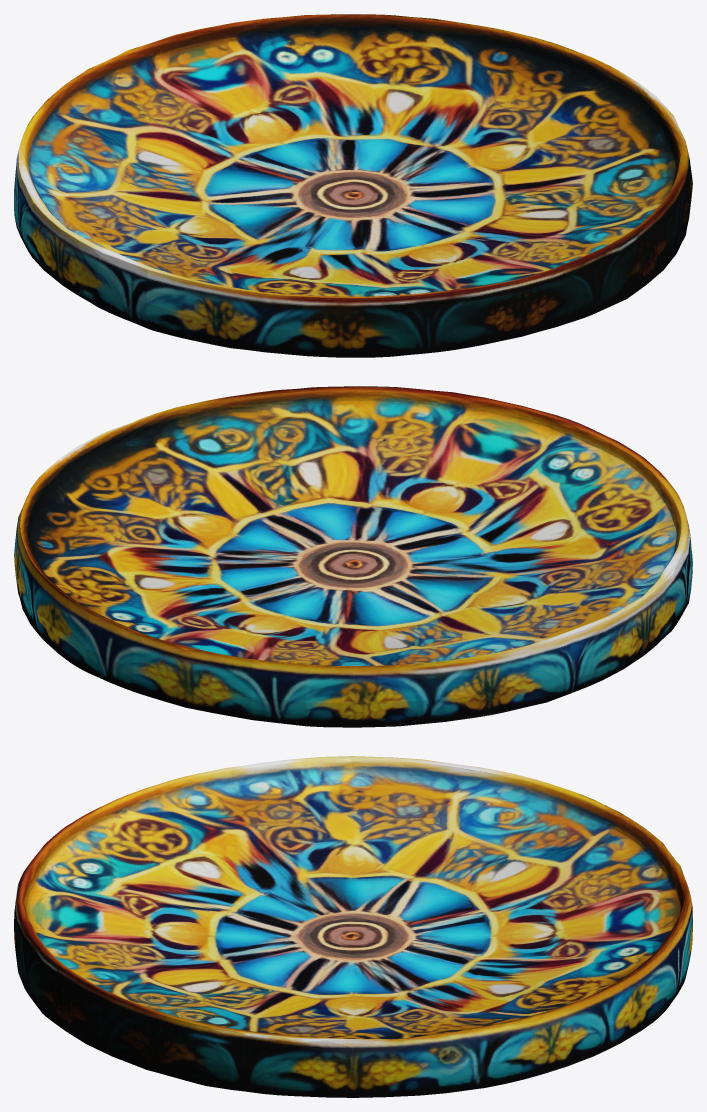
File: ceramic-sushi-plate-art-deco.jpeg.glb
3 renders of one model, top to bottom at view 1: azimuth 30°, elevation 25°; view 2: azimuth 150°, elevation 25°; view 3: azimuth 270°, elevation 25°, orthographic.
Parts seen in each view (by area): view 1: world; view 2: world; view 3: world.
Boxes of the visible parts, x1=… form: world: x1=14, y1=14, x2=692, y2=357; world: x1=14, y1=386, x2=692, y2=727; world: x1=14, y1=756, x2=692, y2=1097.
Bounding box in the file's own units: 0.9989 × 0.1726 × 0.9995.
Materials: 1 (1 with a texture image).
